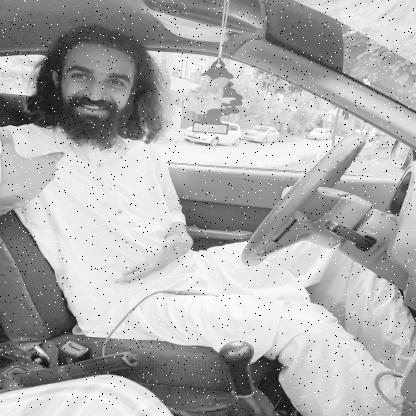no_seatbelt: (47, 14, 190, 284)
